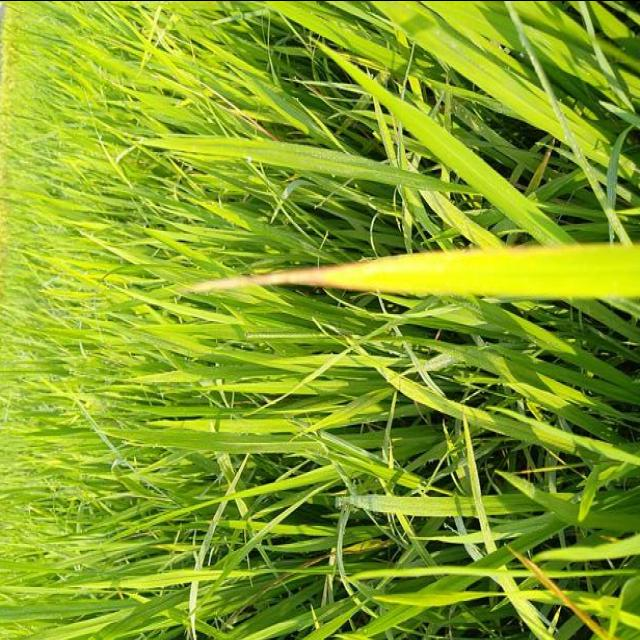Leaf Blight: (179, 241, 640, 299)
